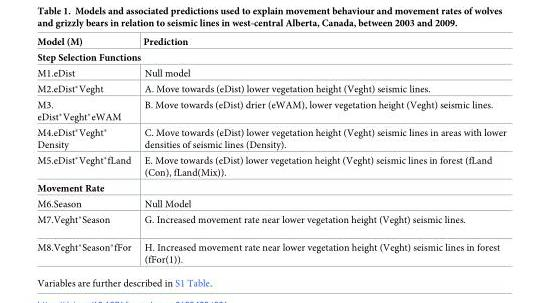table: (36, 36, 505, 264)
table column: (136, 36, 505, 264), (36, 36, 136, 264)
table column header: (36, 36, 505, 49)
table projected row header: (36, 49, 505, 65), (36, 180, 505, 195)
table row: (36, 232, 505, 264), (36, 151, 505, 180), (36, 96, 505, 124), (36, 124, 505, 151), (36, 210, 505, 232), (36, 49, 505, 65), (36, 80, 505, 96), (36, 65, 505, 80), (36, 180, 505, 195), (36, 195, 505, 210), (36, 36, 505, 49)
